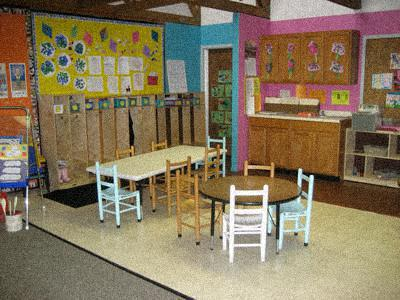Otro Obstaculo: (0, 100, 30, 228), (0, 196, 27, 237)
